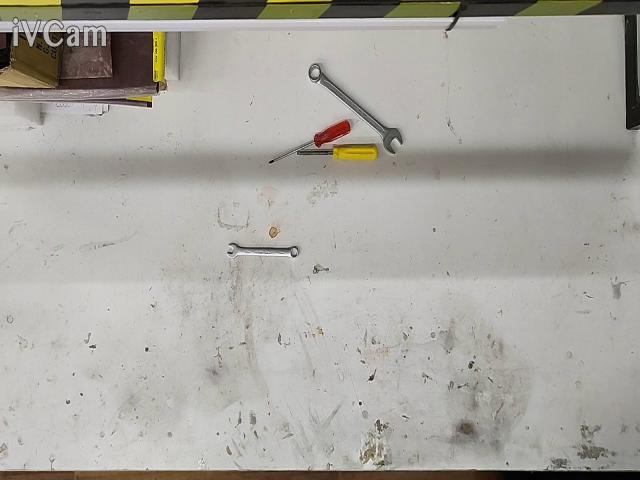Screwdriver: (268, 120, 350, 165), (296, 144, 378, 160)
Wrench: (308, 65, 402, 155), (227, 243, 298, 259)
